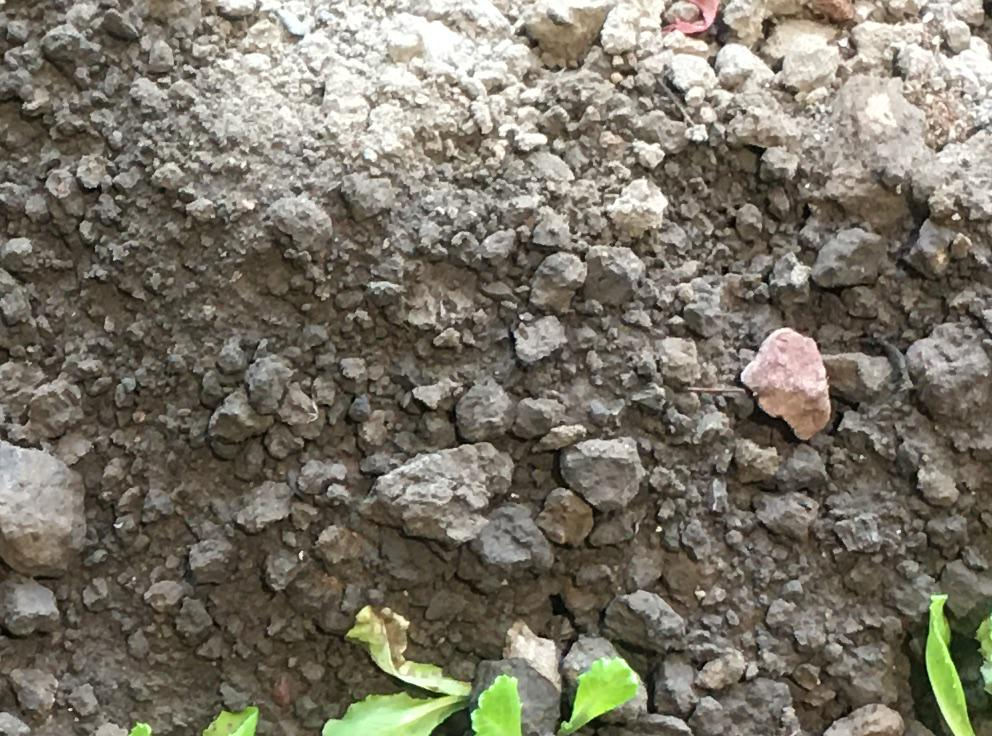block: (365, 443, 513, 540), (1, 445, 84, 575)
